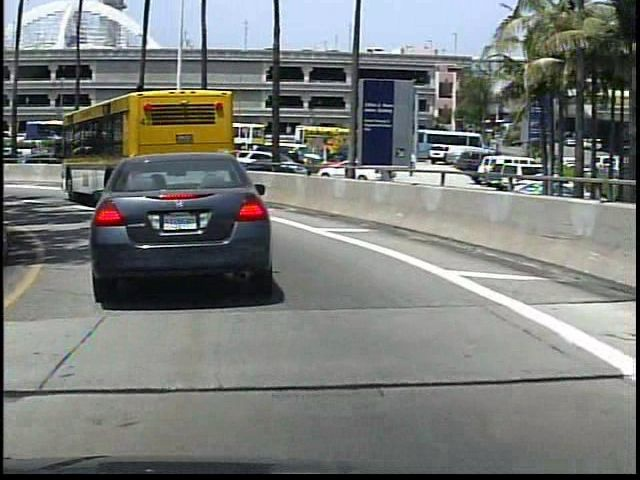person: (288, 145, 304, 180)
